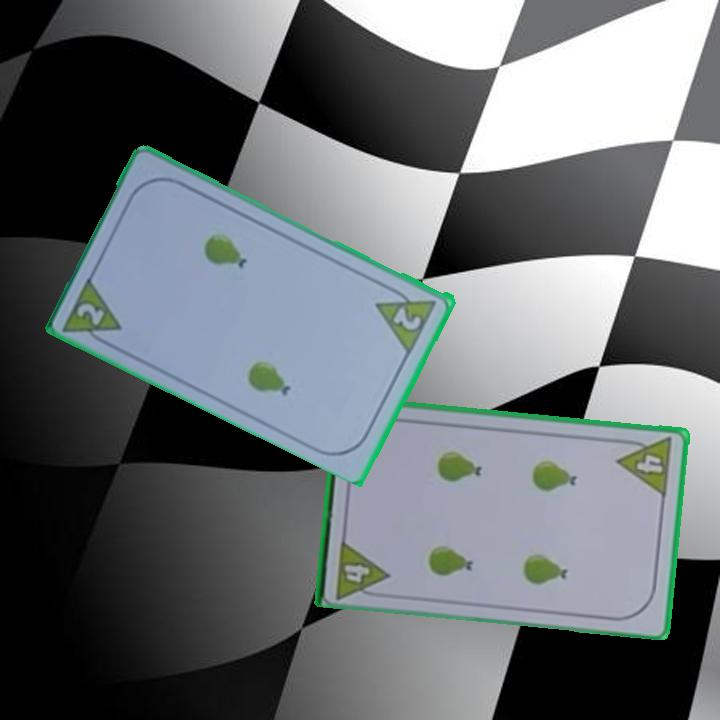2p: (372, 280, 441, 355), (73, 299, 109, 328)
4p: (614, 434, 675, 499), (332, 535, 391, 601)
